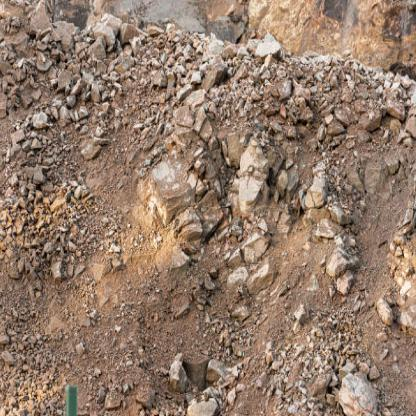Sedimentary_Limestone: (133, 146, 217, 247), (329, 364, 395, 415), (378, 236, 416, 324), (236, 142, 274, 215), (330, 232, 362, 300), (197, 362, 239, 400), (164, 350, 188, 398)
